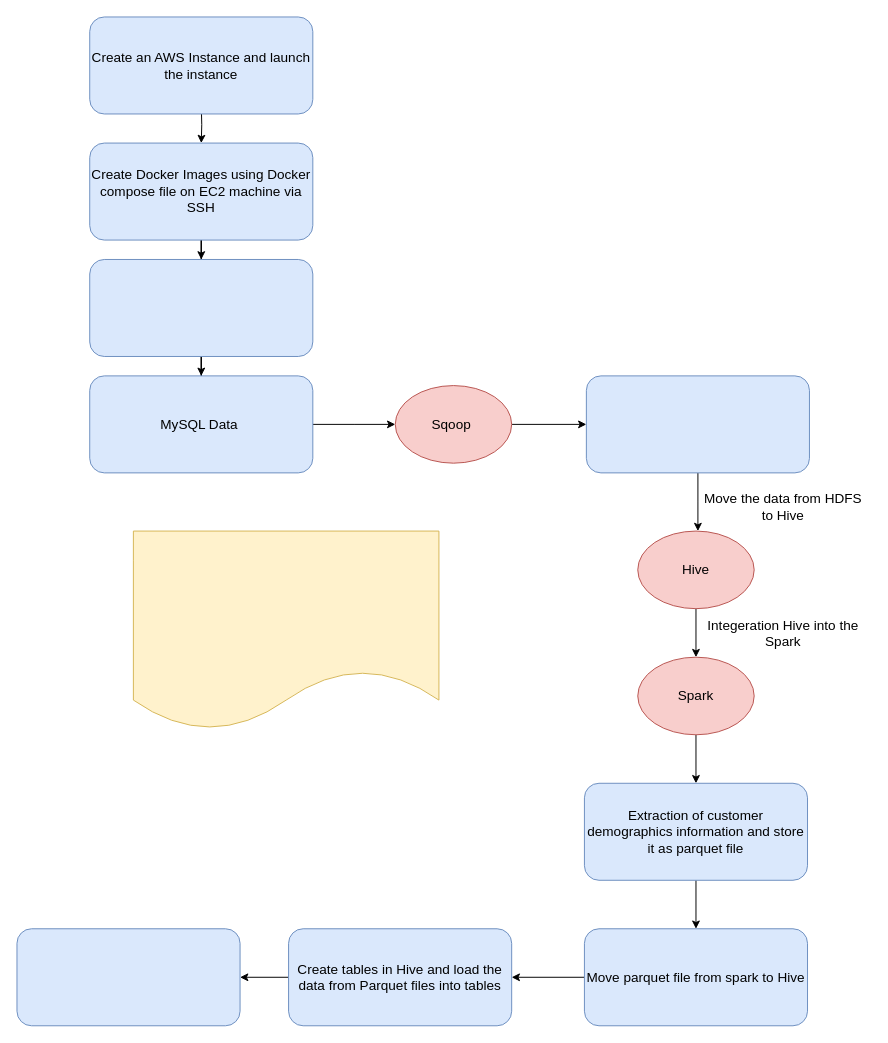
The diagram is 888 pixels wide and 1043 high, and some of its shapes have lost their labels. Each missing label, with the centre of its shape:
Create tables in MySQL: pixel 201 307
Hadoop Distributed File System: pixel 697 424
Hive Project to Build a Data Warehouse Solution: pixel 285 630
Perform Hive analytics on sales and customer demographics data: pixel 128 977
